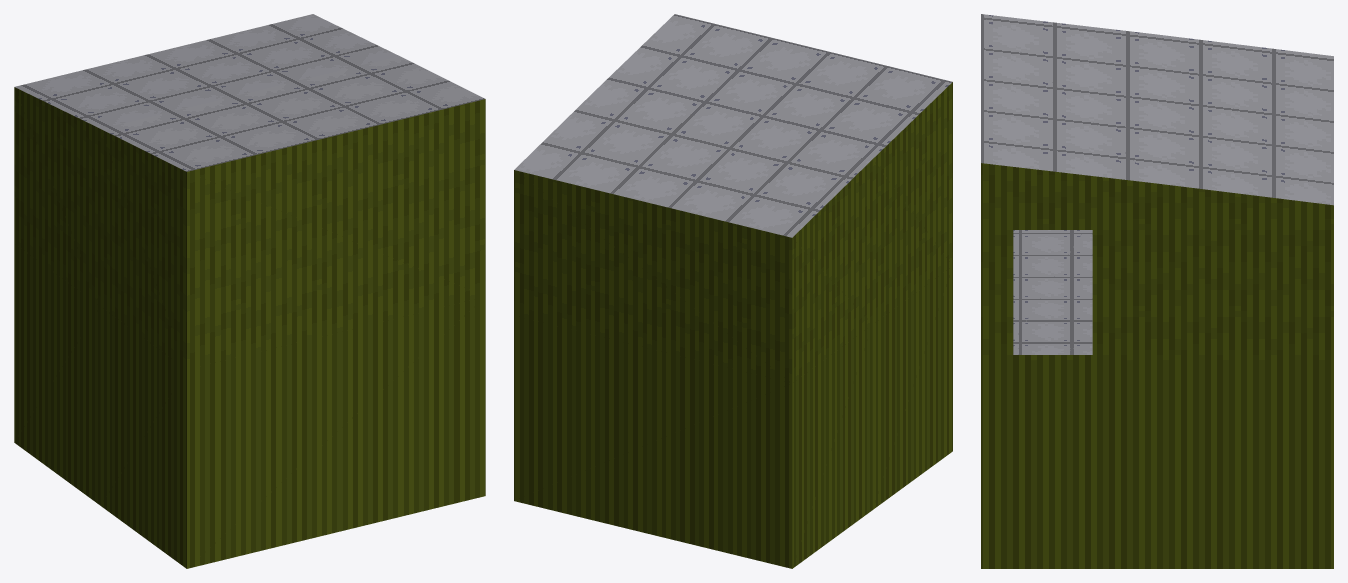
The model's file is Shack.glb.
3 views of the same model, side by side, from view 1: azimuth 30°, elevation 25°; view 2: azimuth 150°, elevation 25°; view 3: azimuth 270°, elevation 25° (orthographic). The views are drawn at different scales.
Visible parts, largest first — view 1: Cube; view 2: Cube; view 3: Cube.
Part boxes in pixels (x1,y1,x2,y2): Cube: [14, 14, 485, 568]; Cube: [514, 14, 952, 568]; Cube: [981, 14, 1333, 568].
Bounding box in the file's own units: 4 × 5.08 × 4.
Materials: 2 (2 with a texture image).
